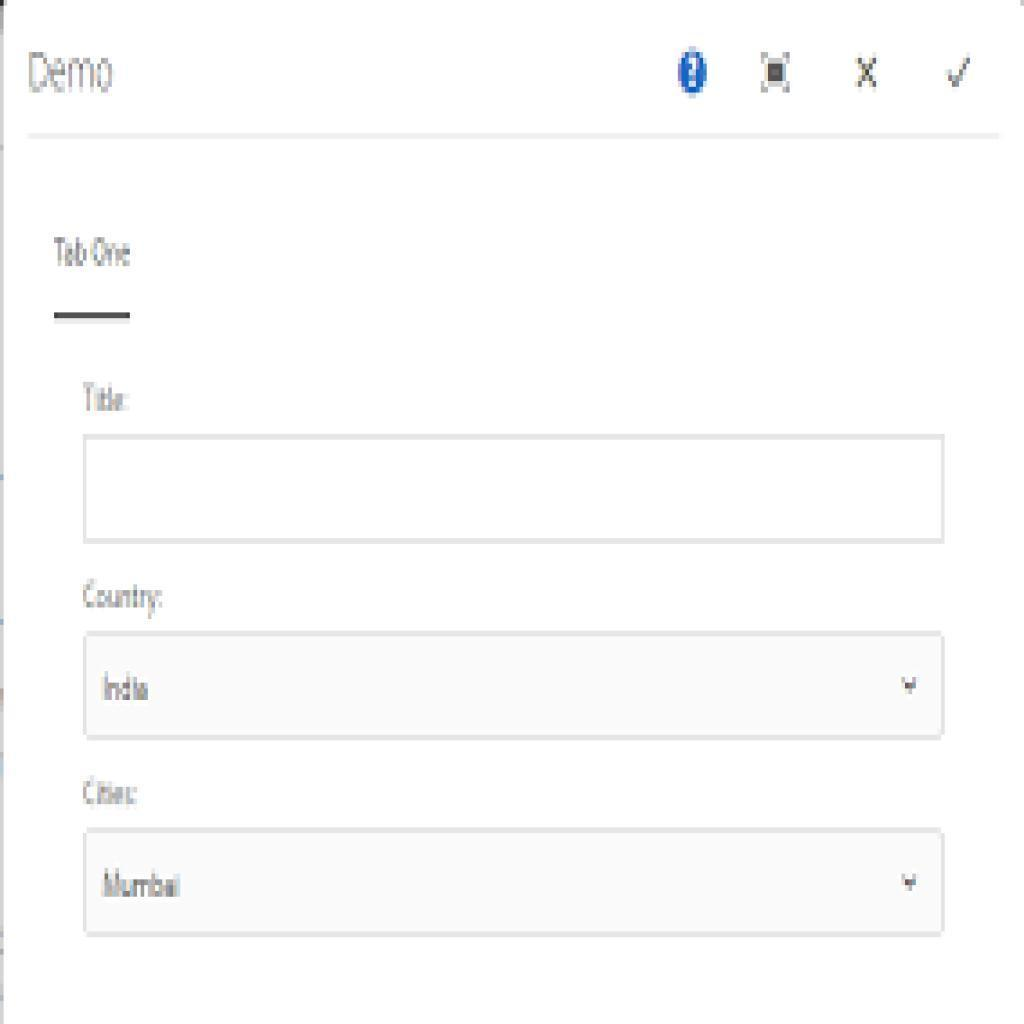dropdown: (88, 827, 942, 935), (84, 636, 945, 739)
icon: (670, 40, 714, 102), (756, 40, 797, 101), (854, 54, 884, 93)
input: (84, 434, 944, 540)
label: (56, 227, 138, 282), (80, 573, 170, 618), (81, 771, 149, 814), (79, 377, 130, 418)
